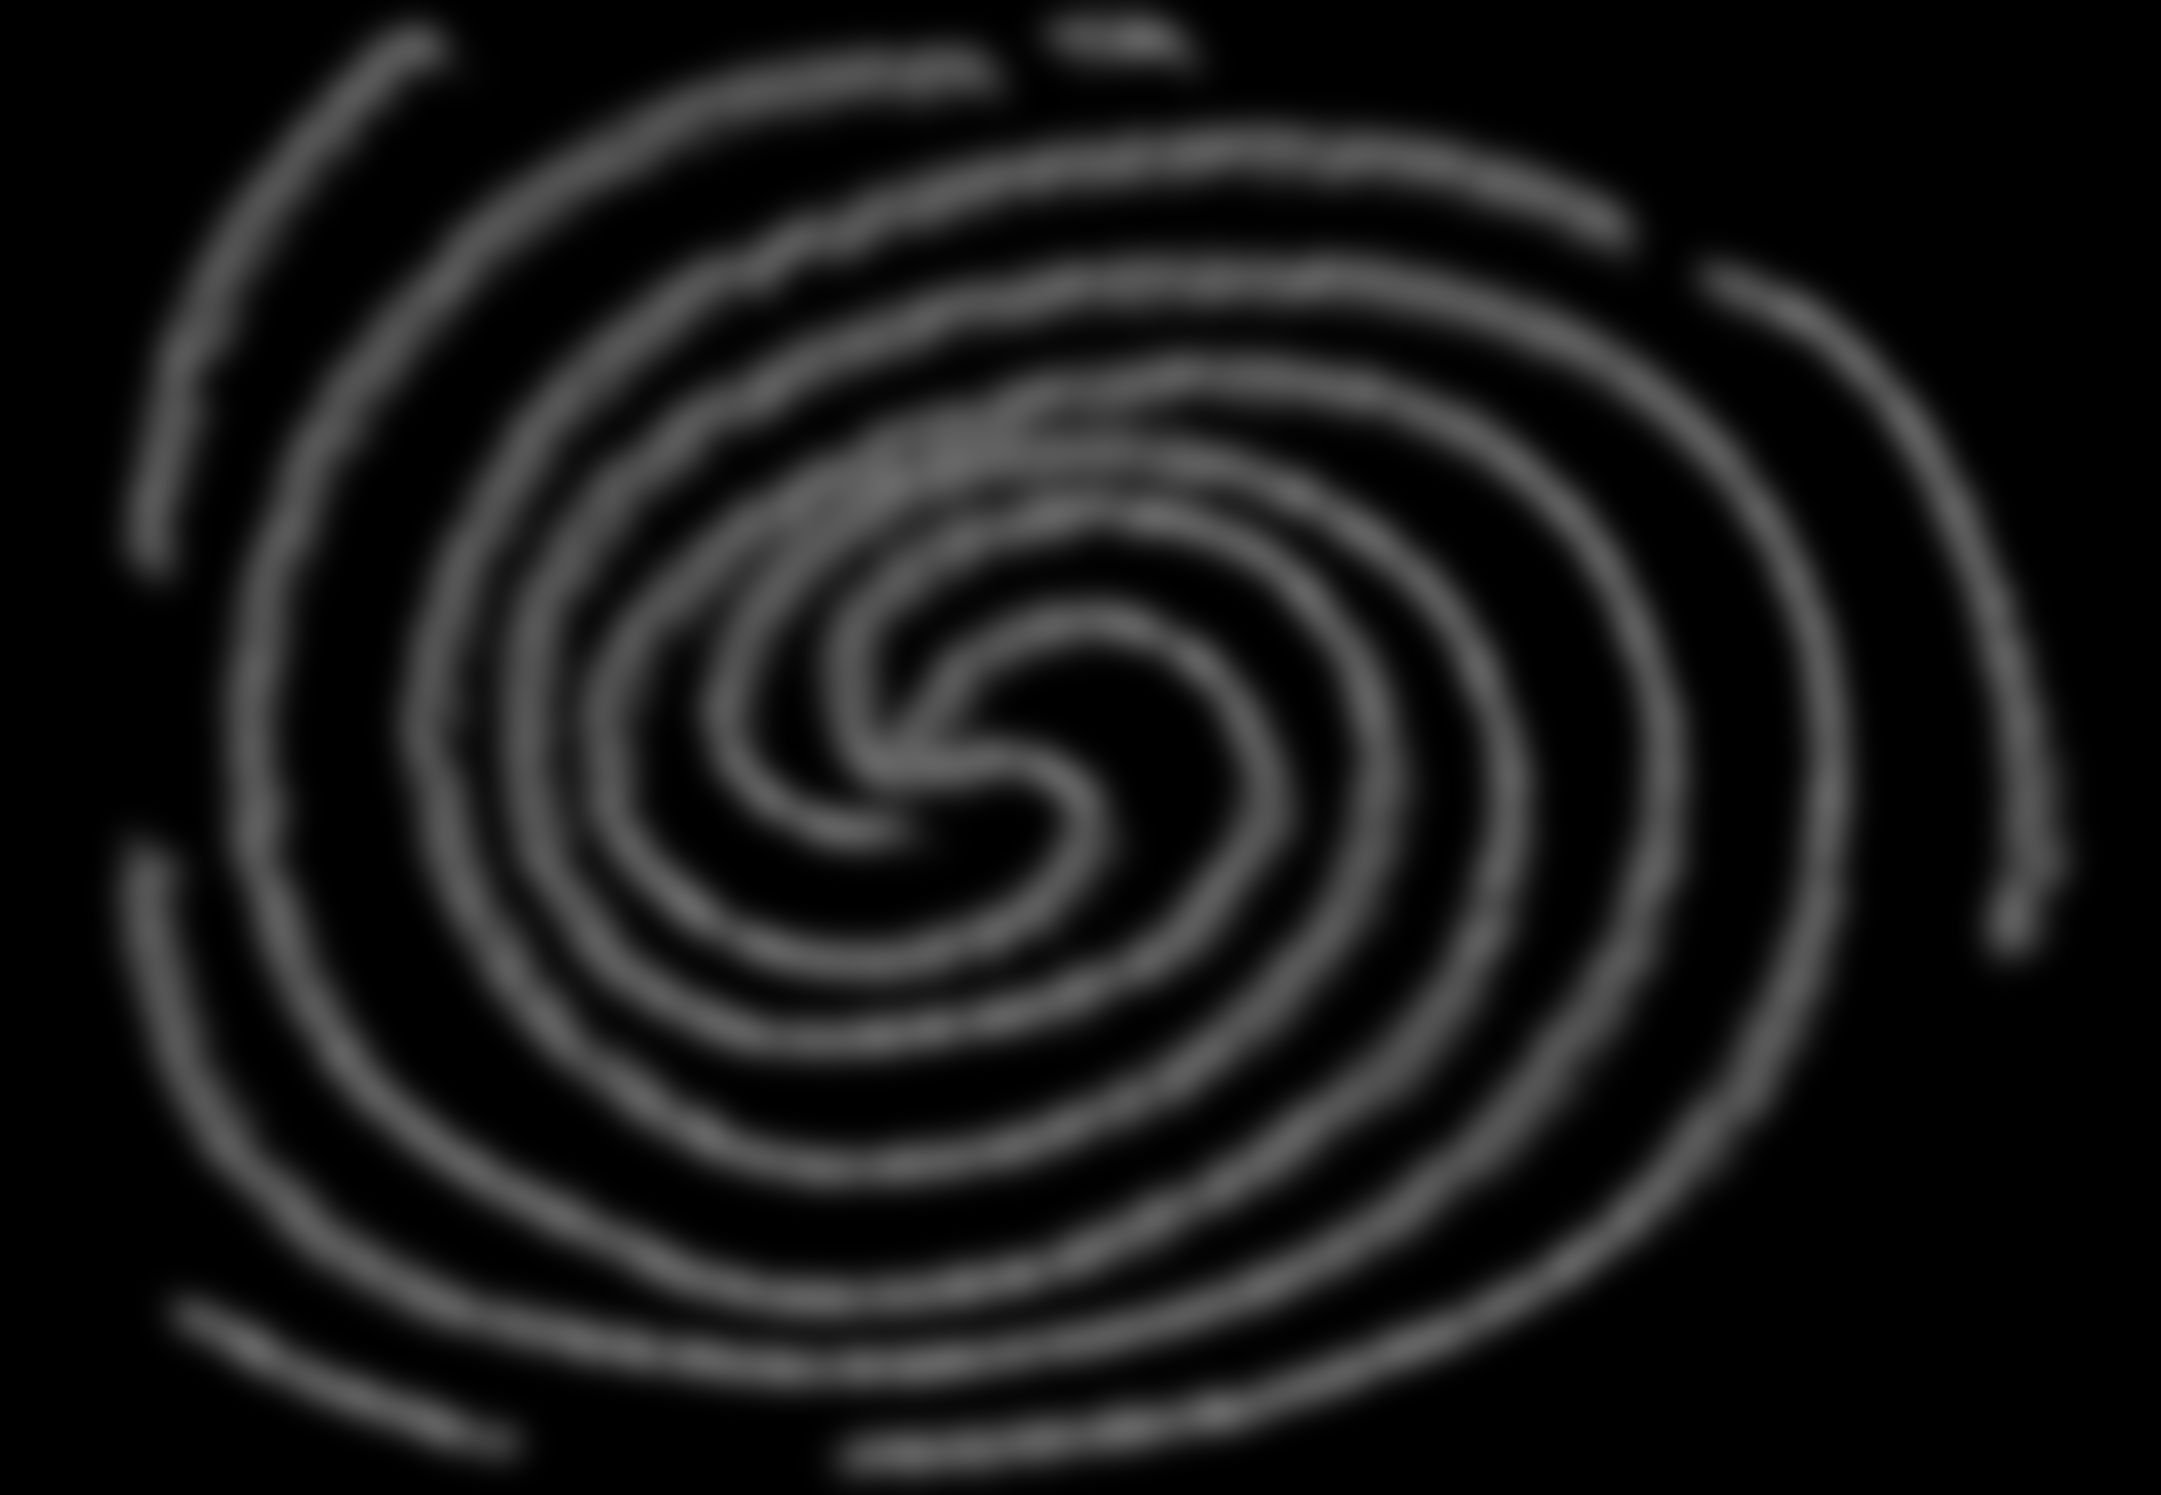vortex: (72, 31, 2082, 1493)
